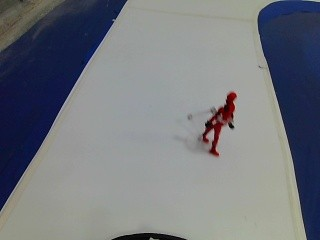pedestrian: (196, 84, 243, 162)
